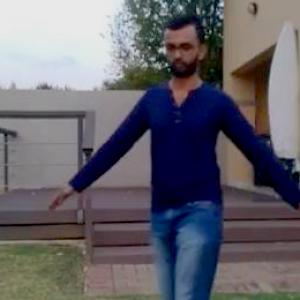land: (83, 25, 299, 299)
